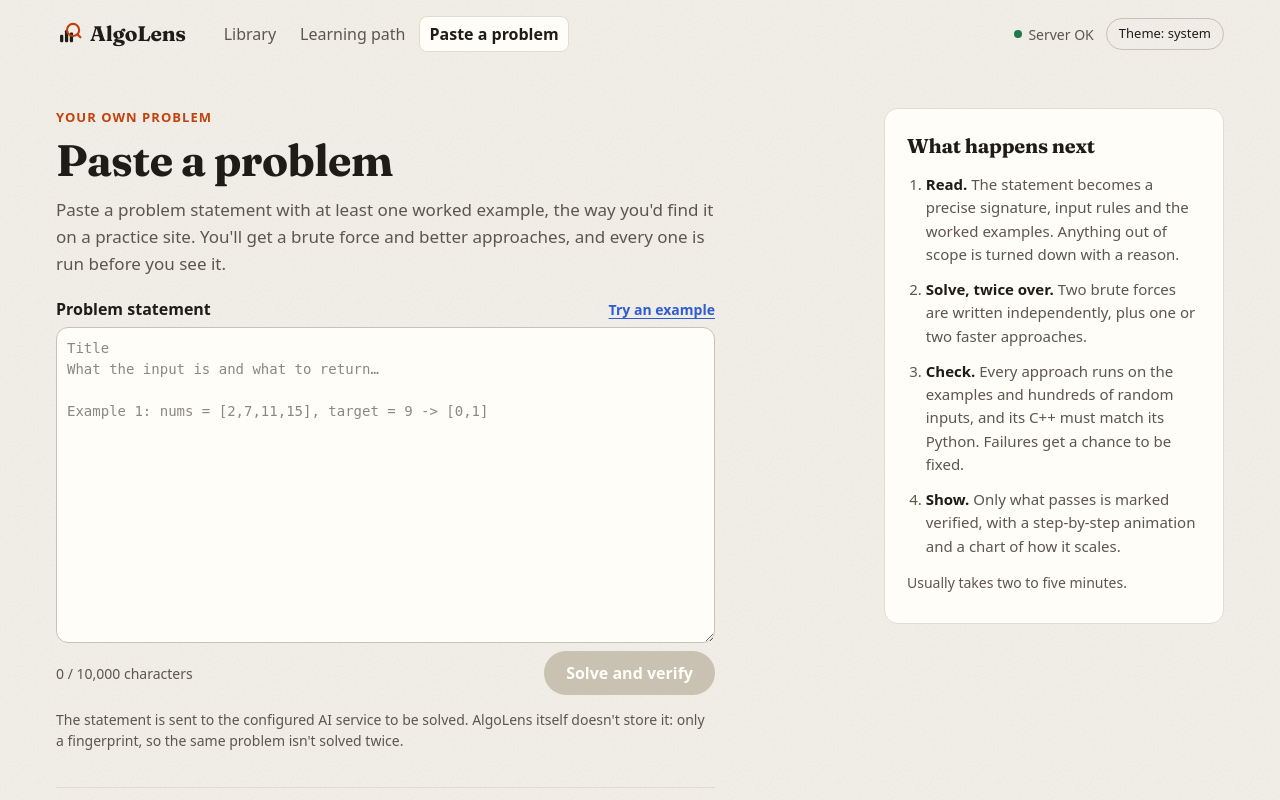
Scenario: the server's reason is shown when solving isn't available
The width and height of the screenshot is (1280, 800).
Click the text box labelled "Problem statement": (385, 486) [56,328,715,644]
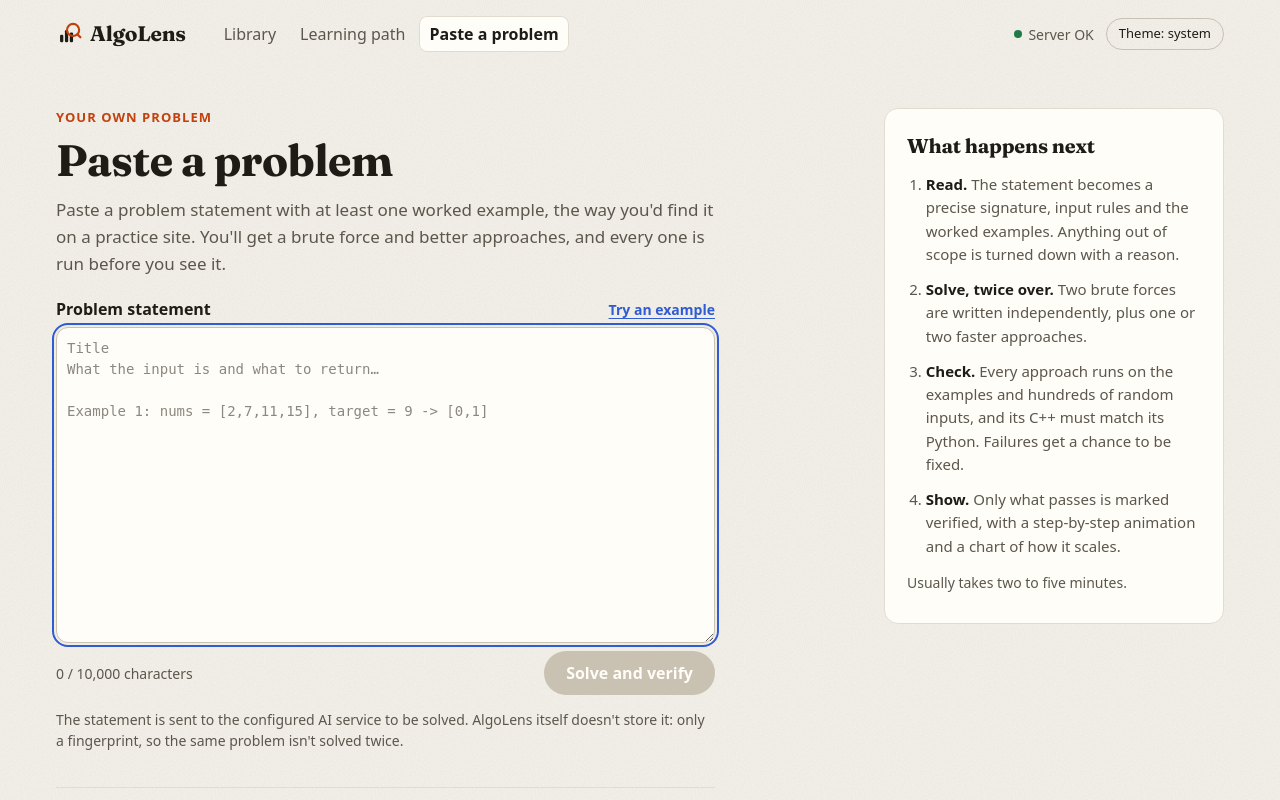
Type keys "Given an integer array nums, return the largest subarray sum. Example: [1] -> 1"
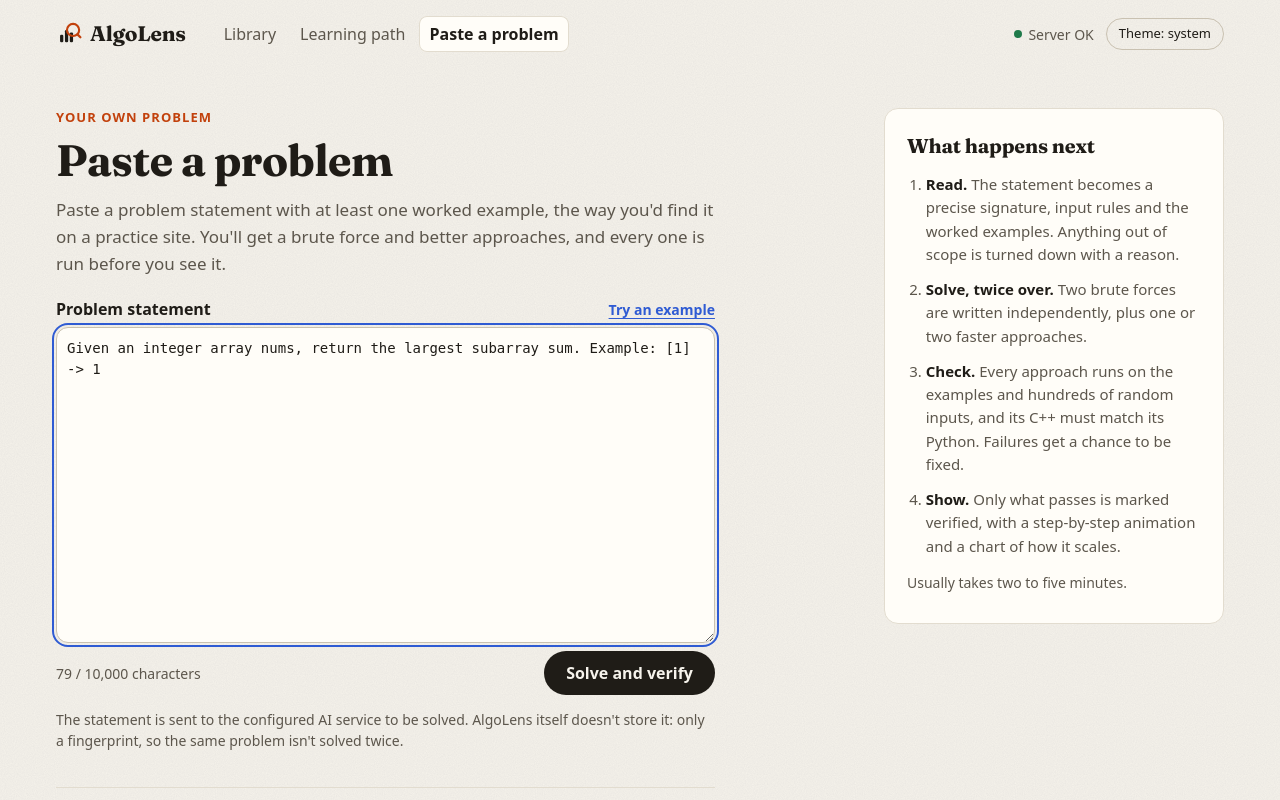
Click the button "Solve and verify": (630, 674) [544,652,715,696]
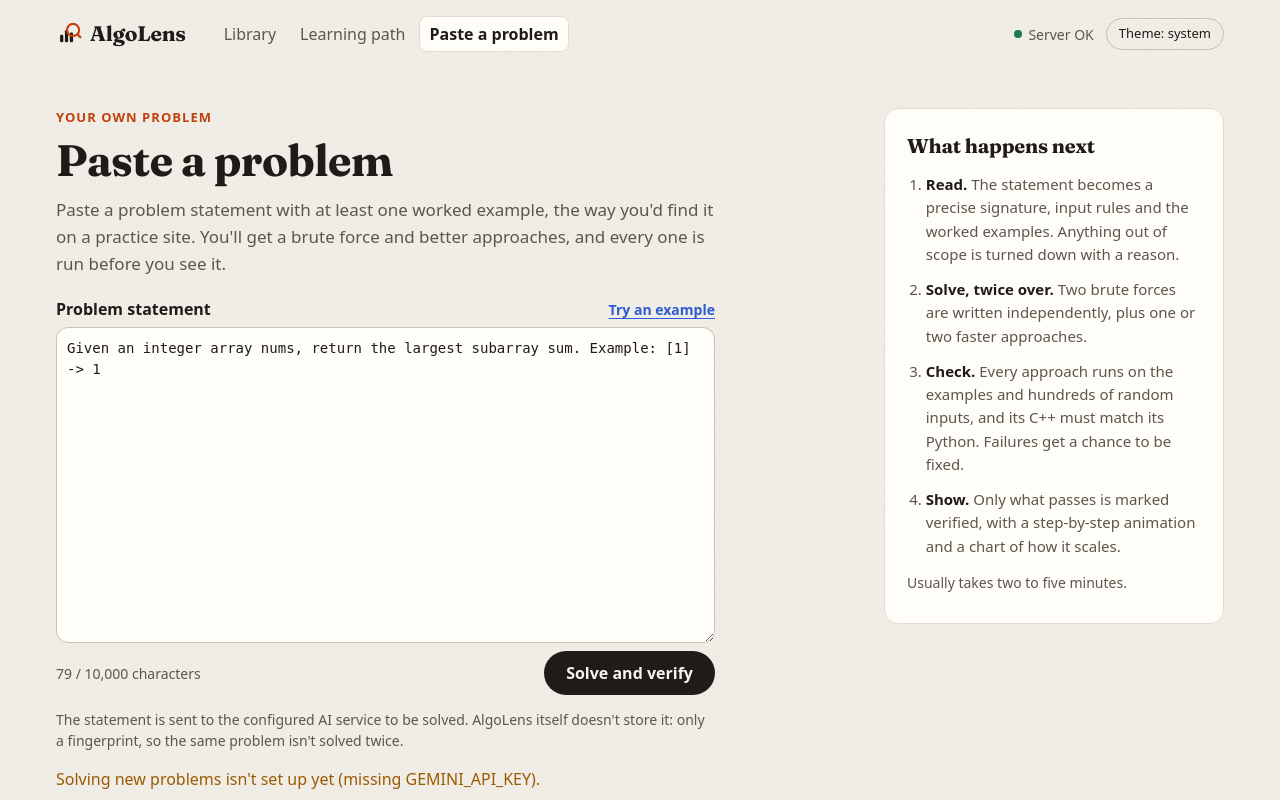
Check: the message "Solving new problems isn't set up yet (missing GEMINI_API_KEY)." is shown, box [56,768,540,790]
